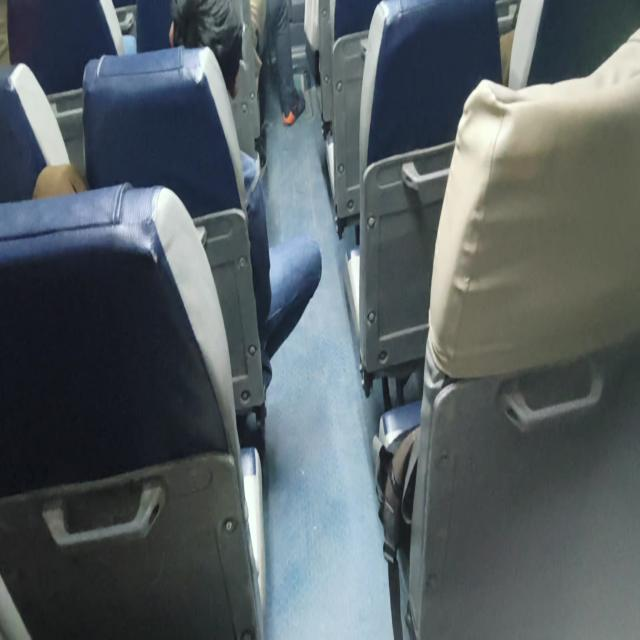person: (32, 1, 322, 457), (168, 1, 322, 395), (249, 0, 306, 168), (32, 162, 89, 199)
